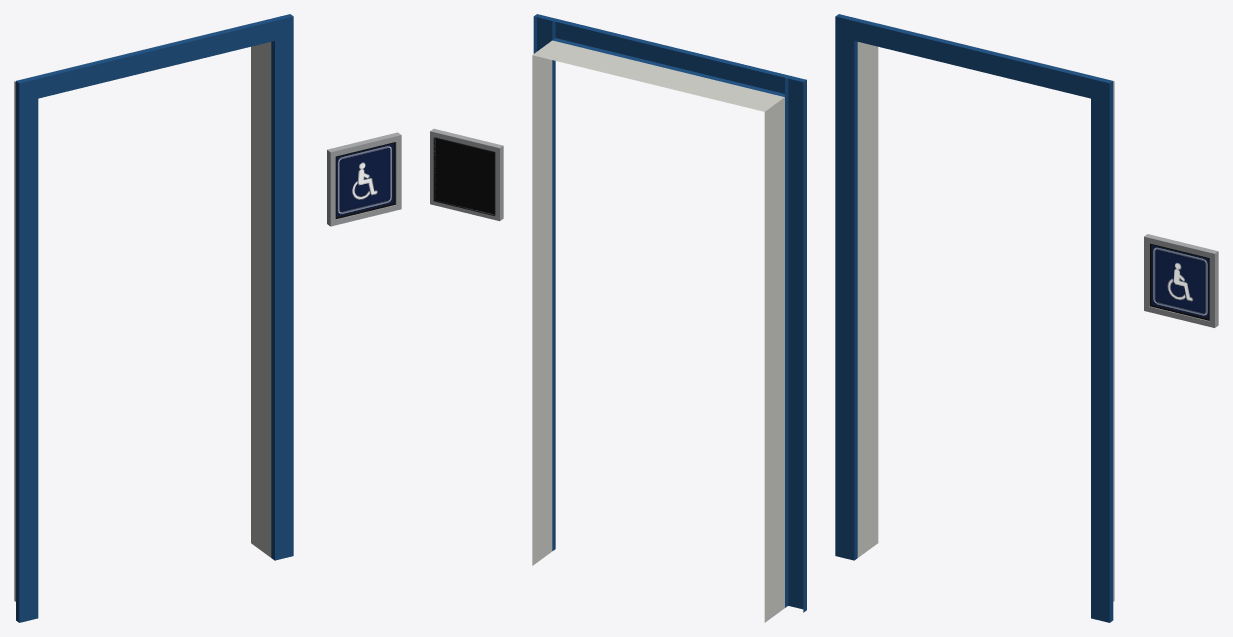
The model's file is gteki_toilet_entrance_accessible.glb.
The picture shows the model from 3 angles, left to right: view 1: azimuth 30°, elevation 25°; view 2: azimuth 150°, elevation 25°; view 3: azimuth 330°, elevation 25°; orthographic projection.
Parts seen in each view (by area): view 1: VIS_body; view 2: VIS_body; view 3: VIS_body.
Boxes of the visible parts, x1,y1,x2,y2 form: VIS_body: (14,14,401,622); VIS_body: (430,14,806,622); VIS_body: (835,14,1218,622).
Size of what is drawn, in the model's own units: 1.61 by 2.18 by 0.185.
2 materials, 2 textured.
